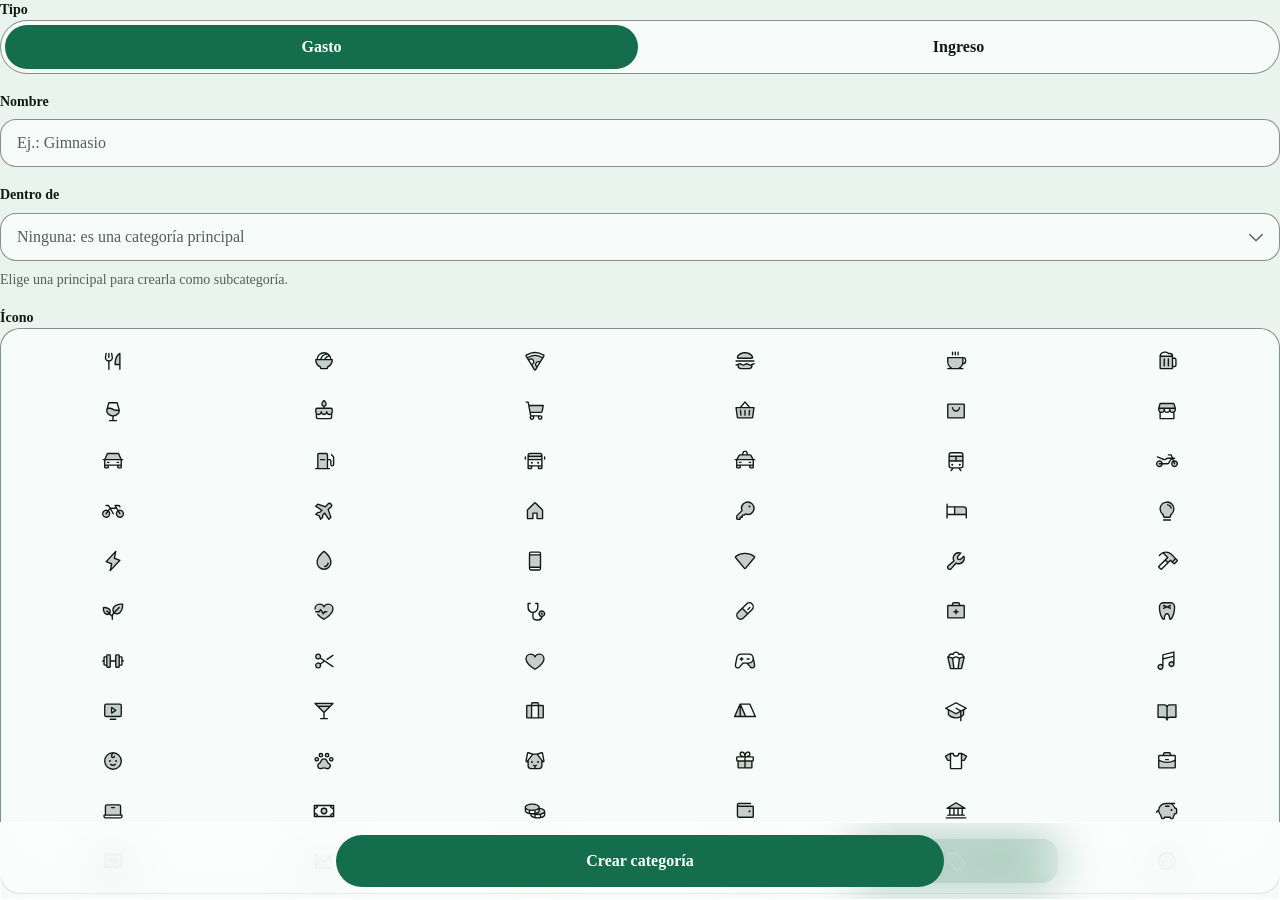
Test: a repeated name (409 category_name_taken) › offers to unarchive the archived category with the same name, and nothing is created
Type "  mascotas " into the field labelled "Nombre". click: (640, 143)
box: [0,119,1279,167]
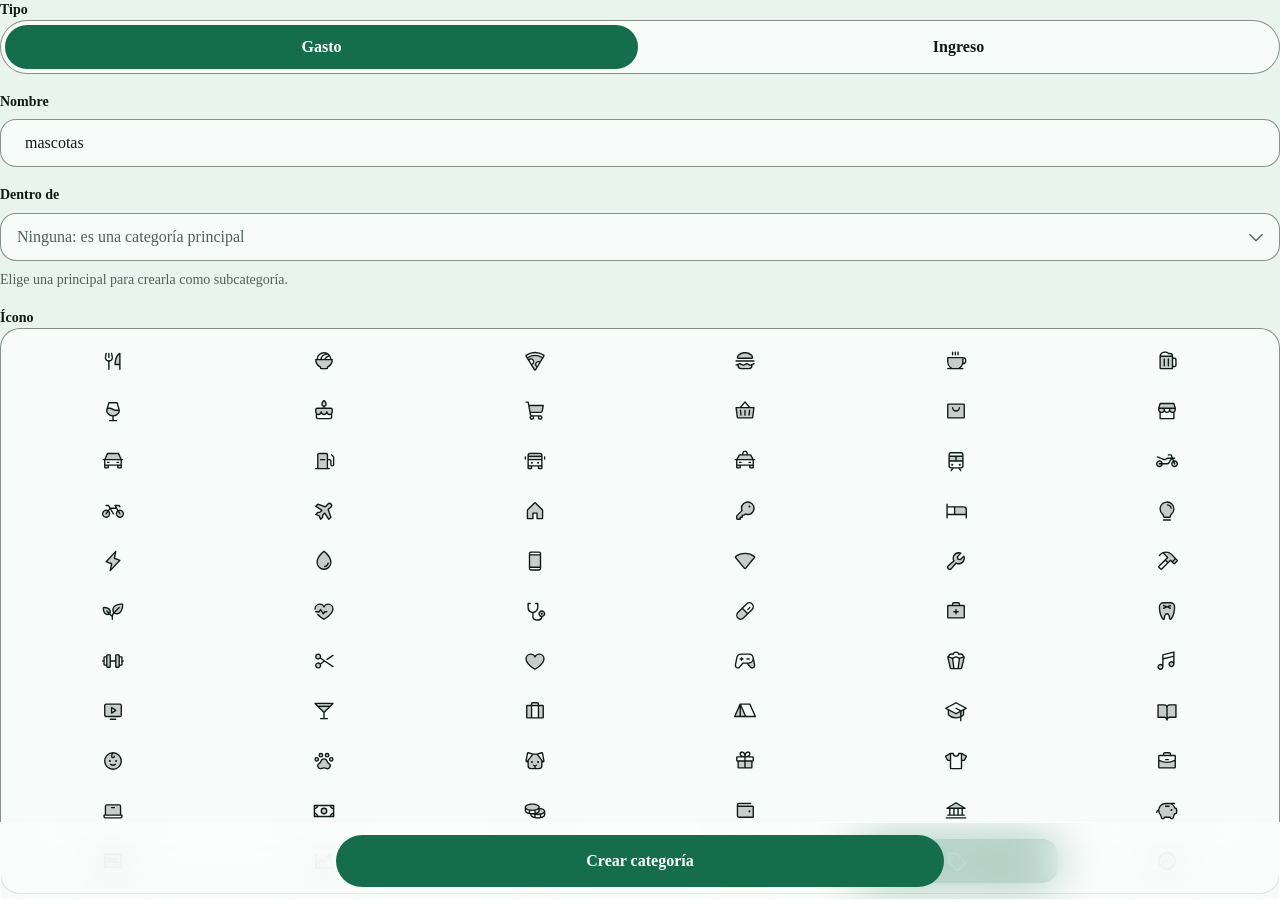
Click the button "Crear categoría". click: (640, 861)
box: [336,835,944,887]
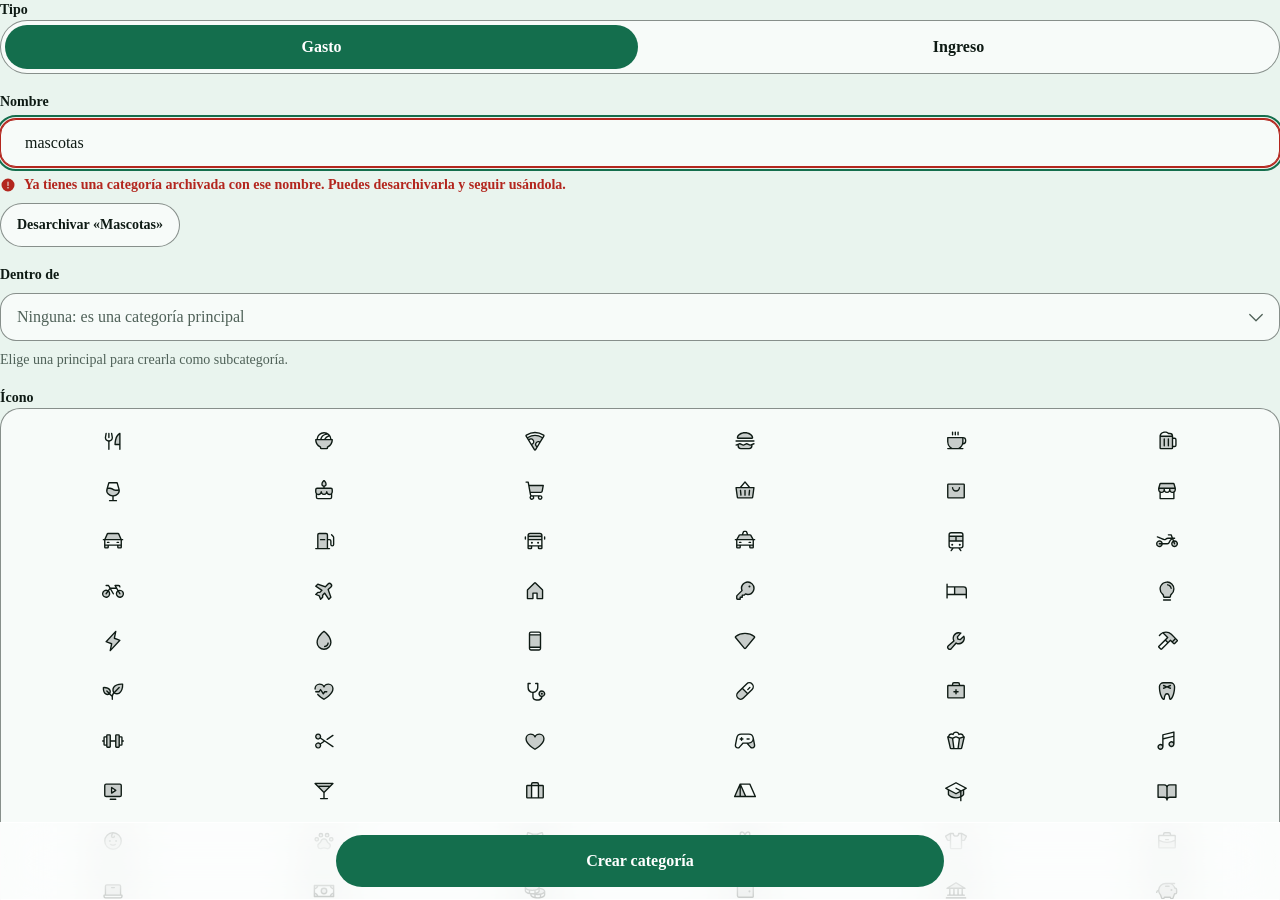
Now the text "Ya tienes una categoría archivada con ese nombre. Puedes desarchivarla y seguir usándola." is shown, box [24,177,566,192]
Now the button "Desarchivar «Mascotas»" is shown, box [0,203,180,247]
